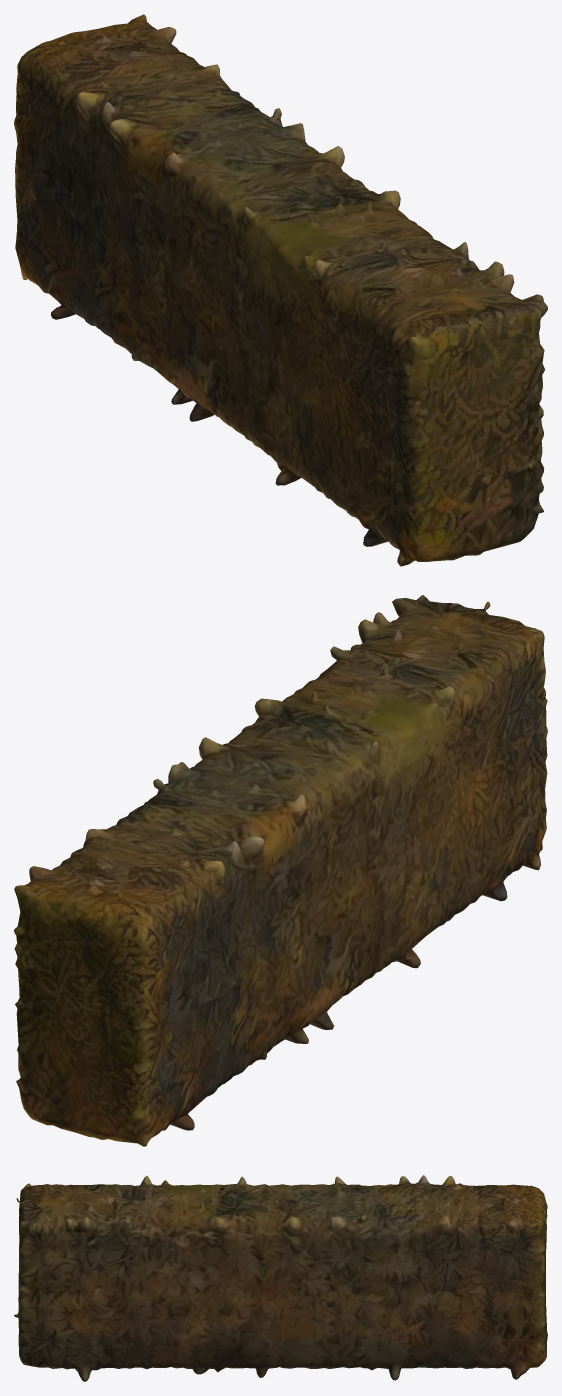
The model's file is hedge_row_long.glb.
The picture shows the model from 3 angles, top to bottom: view 1: azimuth 30°, elevation 25°; view 2: azimuth 150°, elevation 25°; view 3: azimuth 270°, elevation 25°; orthographic projection. The views are drawn at different scales.
Parts seen in each view (by area): view 1: tripo_node_1cb6222f-0ebf-457f-86fa-a28a4e708586; view 2: tripo_node_1cb6222f-0ebf-457f-86fa-a28a4e708586; view 3: tripo_node_1cb6222f-0ebf-457f-86fa-a28a4e708586.
Part boxes in pixels (x1,y1,x2,y2): tripo_node_1cb6222f-0ebf-457f-86fa-a28a4e708586: [14, 14, 547, 566]; tripo_node_1cb6222f-0ebf-457f-86fa-a28a4e708586: [14, 595, 547, 1146]; tripo_node_1cb6222f-0ebf-457f-86fa-a28a4e708586: [14, 1175, 547, 1381].
Size of the model in its own units: 0.2037 by 0.3245 by 0.9441.
1 material, 1 textured.
